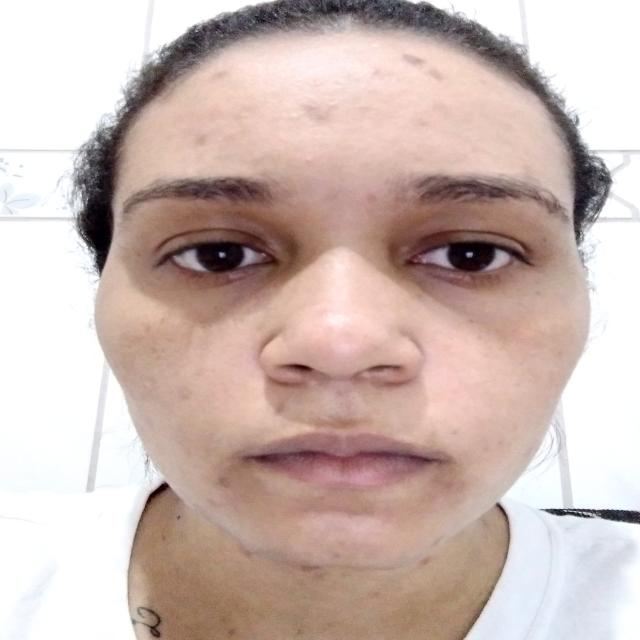Acne: (399, 51, 451, 80), (300, 98, 344, 127), (185, 128, 222, 154), (361, 61, 391, 83), (266, 397, 290, 419), (493, 434, 519, 454), (303, 74, 330, 92), (357, 190, 381, 208), (354, 99, 374, 119), (202, 69, 235, 81), (411, 117, 435, 133), (429, 99, 451, 116), (212, 476, 234, 489), (476, 76, 495, 90), (364, 39, 384, 52), (448, 426, 467, 438)
Eyebags: (399, 269, 579, 325), (125, 283, 286, 334)
